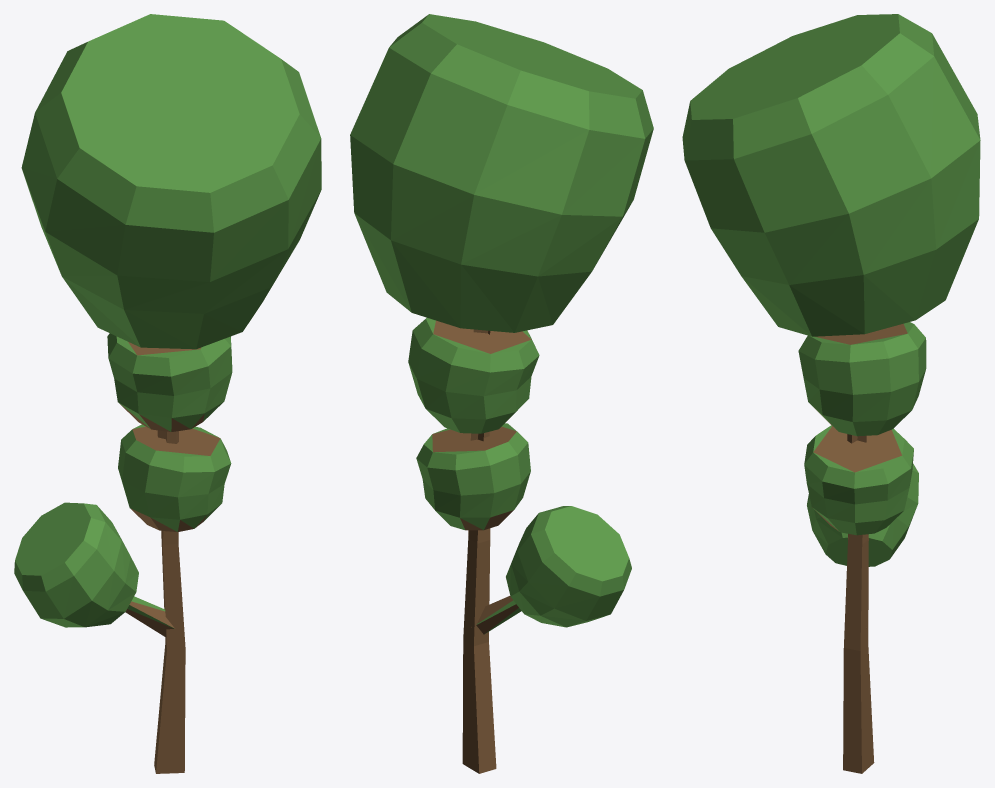
File: tree3d-012.glb
The picture shows the model from 3 angles, left to right: view 1: azimuth 30°, elevation 25°; view 2: azimuth 150°, elevation 25°; view 3: azimuth 270°, elevation 25°; orthographic projection.
Visible parts, largest first — view 1: tree3d-012; view 2: tree3d-012; view 3: tree3d-012.
Boxes of the visible parts, x1,y1,x2,y2 form: tree3d-012: [14, 14, 321, 773]; tree3d-012: [350, 14, 653, 773]; tree3d-012: [682, 14, 980, 773].
Bounding box in the file's own units: 0.3816 × 1 × 0.3678.
